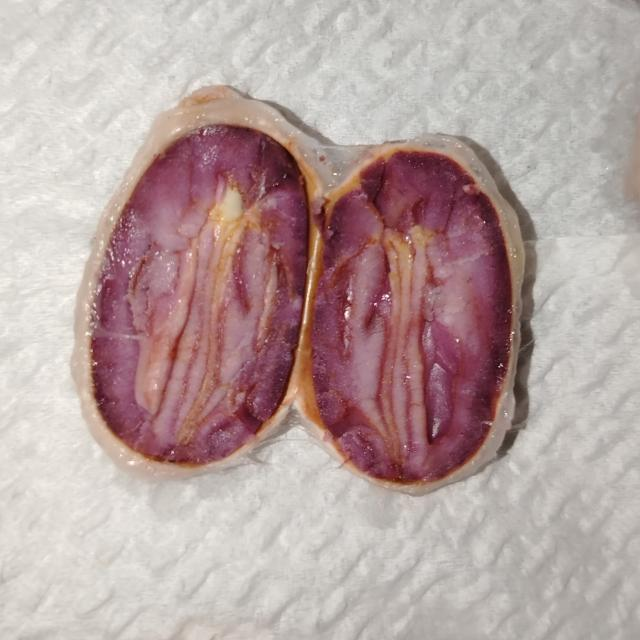Trinitario: (90, 94, 312, 472), (317, 116, 517, 500)
